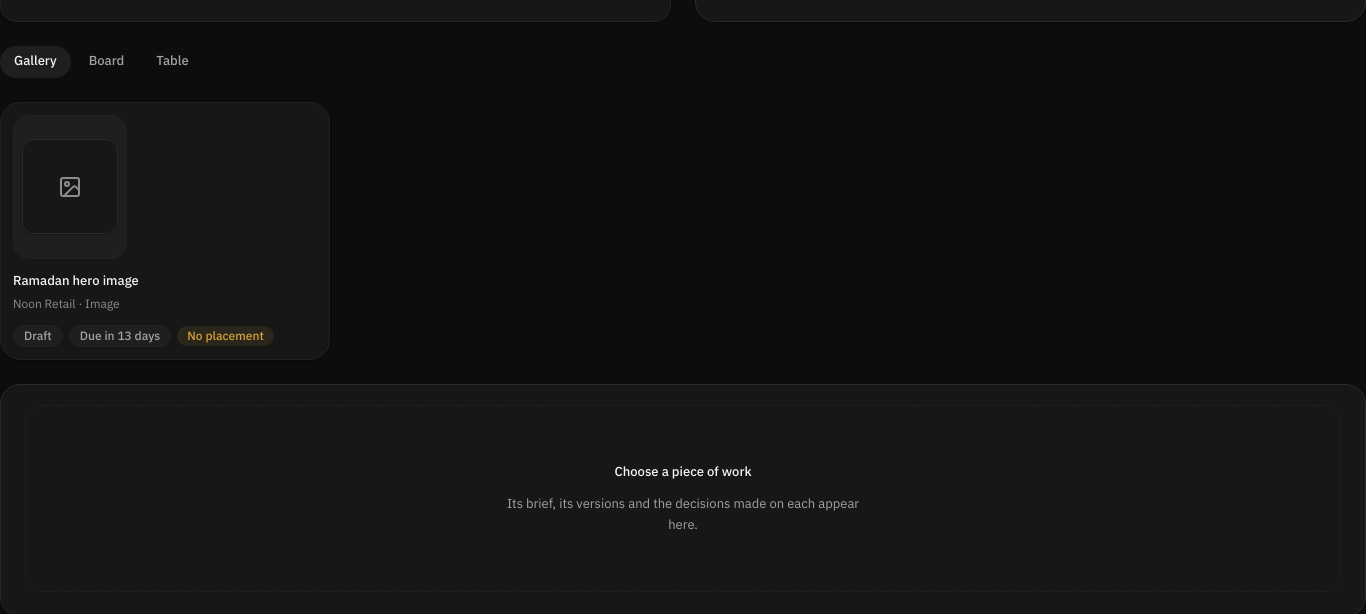
the creative hub › shows the checks with both numbers
(page scrolled)
Step 1. Click the button "Ramadan hero image" → click(70, 187), box [0,102,330,360]
(page scrolled)
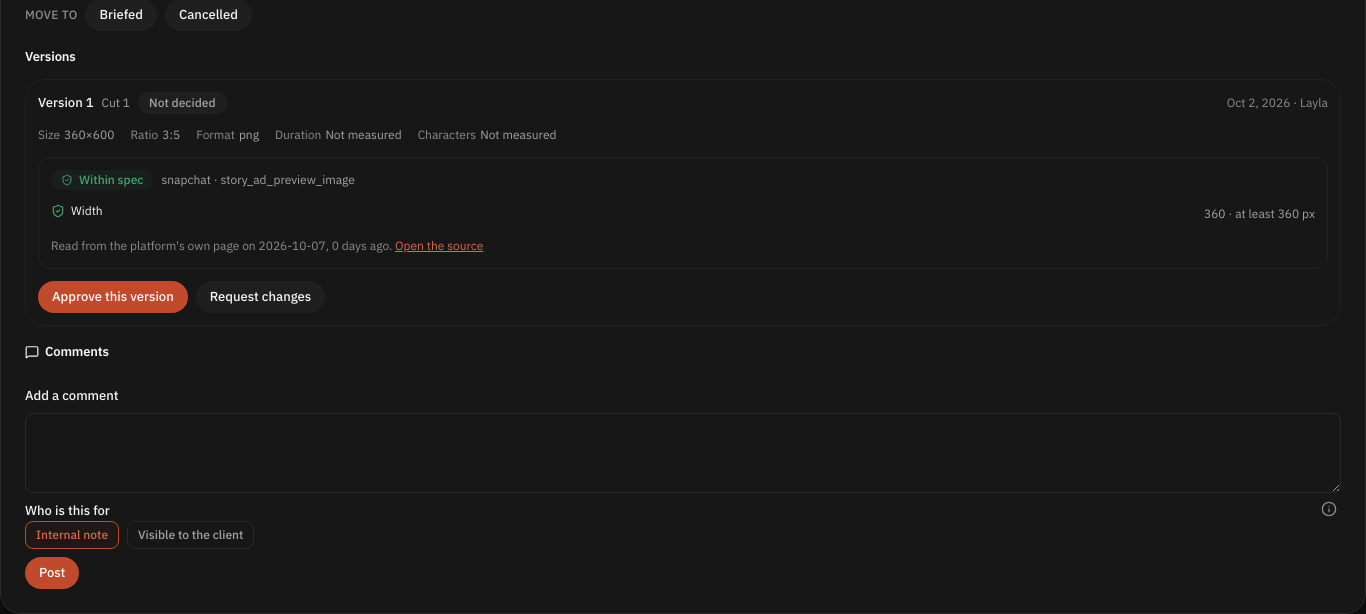
Result: the text "360 · at least 360 px" is shown at [1204,205,1315,224]
Result: the text "Read from the platform's own page on 2026-10-07" is shown at [51,237,392,255]
